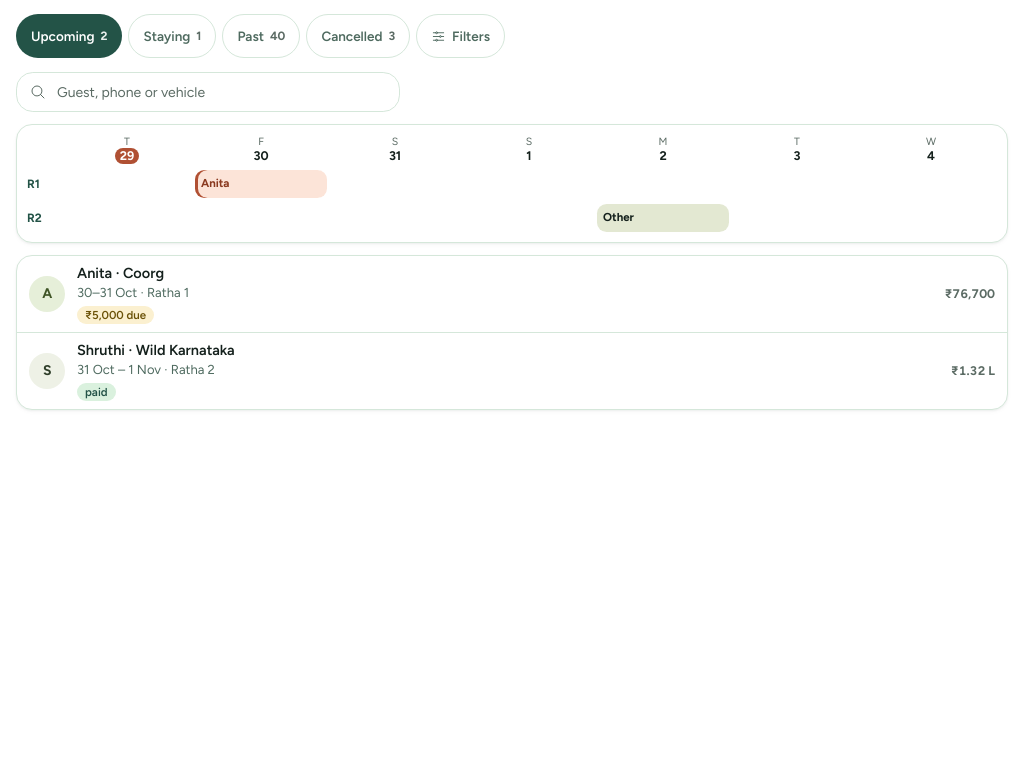
Test: Phone Bookings › hides Collect for roles that may not record money
Click the button with aria-label "Anita, open booking details" at (47, 294), box [17,256,1007,332]
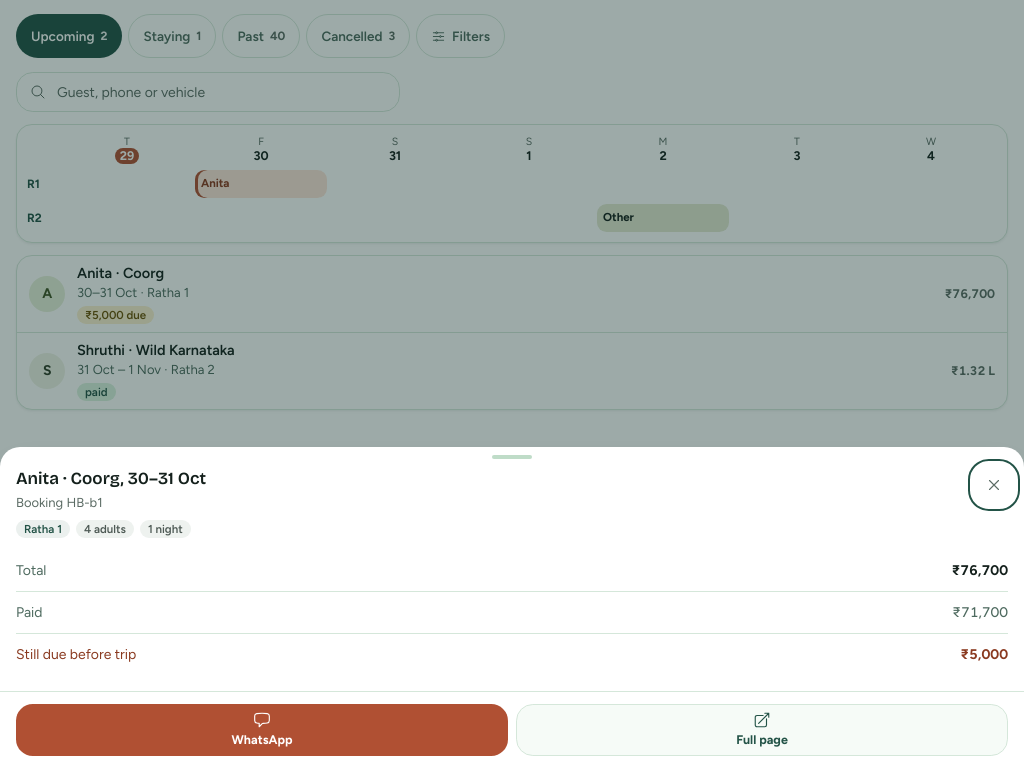
Expected: the text "Still due before trip" is shown, [16,644,136,665]
Expected: the button "WhatsApp" is shown, [16,704,508,756]
